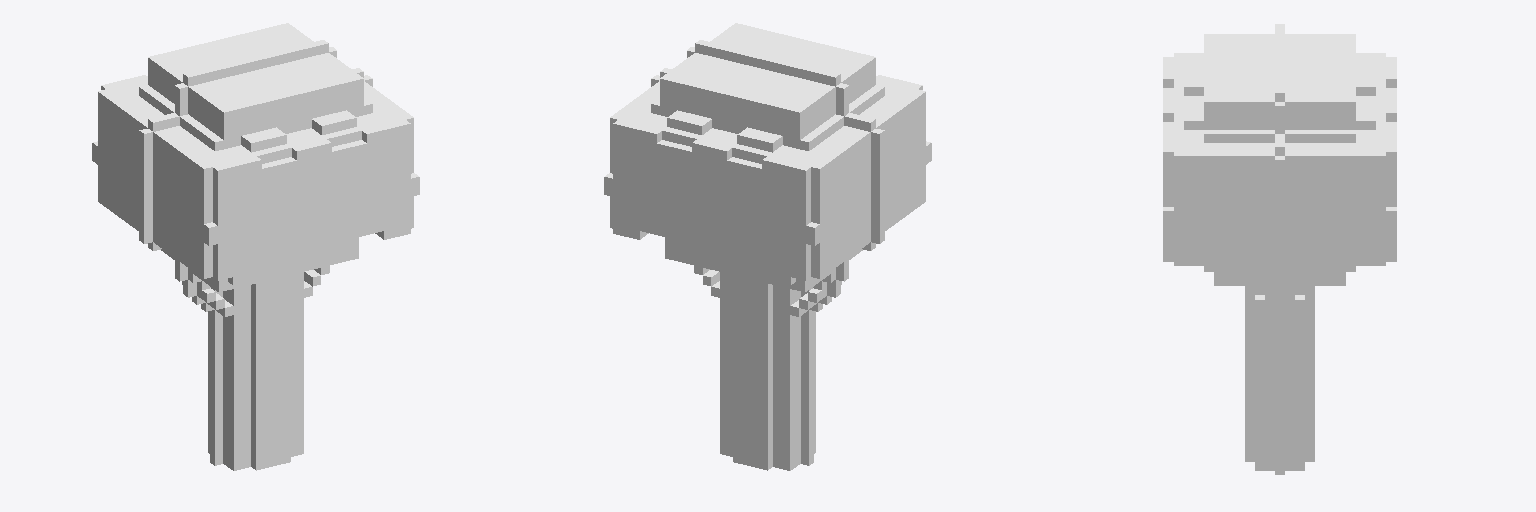
The model's file is 3DTree.obj.
3 views of the same model, side by side, from view 1: azimuth 30°, elevation 25°; view 2: azimuth 150°, elevation 25°; view 3: azimuth 270°, elevation 25° (orthographic).
Visible parts, largest first — view 1: Oak tree-1; view 2: Oak tree-1; view 3: Oak tree-1.
Part boxes in pixels (left/top/right/bottom): Oak tree-1: left=92, top=23, right=419, bottom=470; Oak tree-1: left=604, top=23, right=931, bottom=470; Oak tree-1: left=1163, top=24, right=1396, bottom=474.
Size of the model in its own units: 2.6 by 4.3 by 2.3.